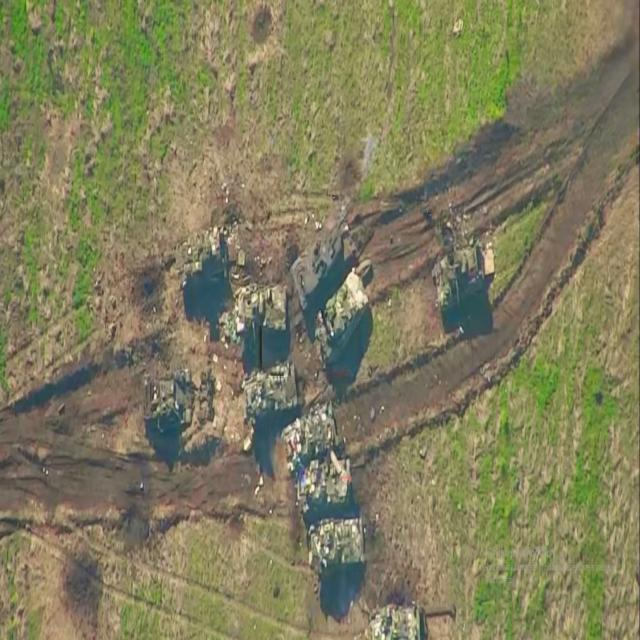AIFV: (314, 272, 372, 370), (435, 245, 497, 320), (175, 228, 230, 302), (305, 518, 366, 580), (234, 282, 290, 347), (284, 406, 337, 472), (243, 364, 299, 426), (299, 460, 352, 514), (373, 603, 423, 640)
MBT: (290, 194, 359, 319), (143, 368, 194, 434)
